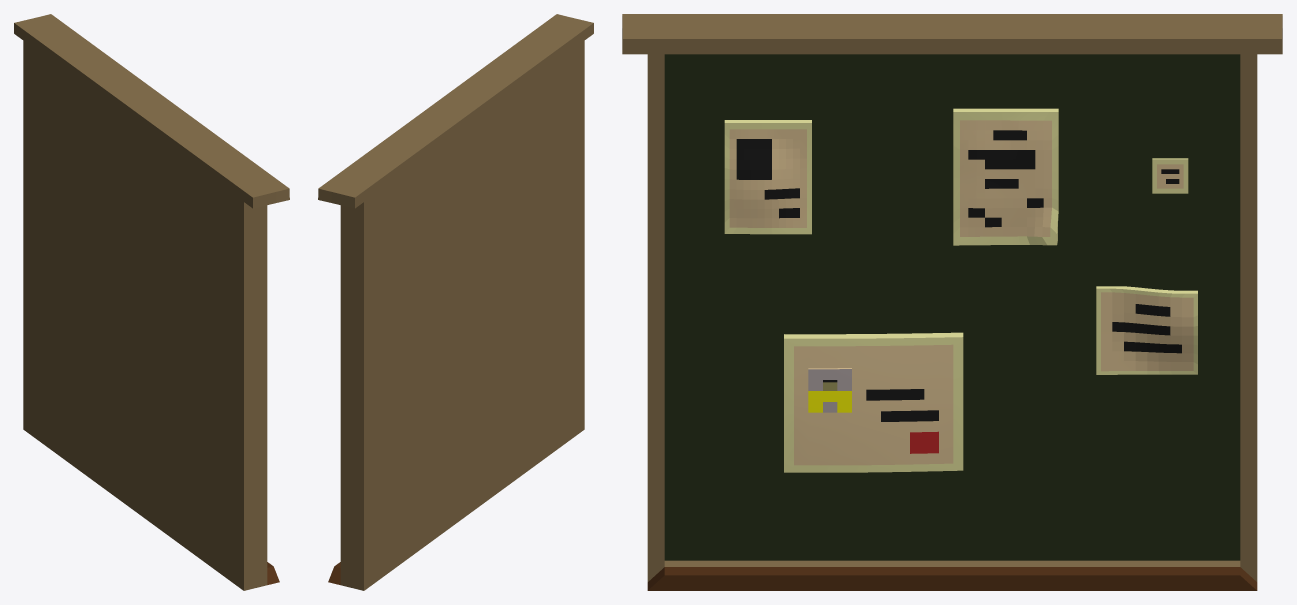
Rendered from Corkboard.fbx.
3 renders of one model, left to right at view 1: azimuth 30°, elevation 25°; view 2: azimuth 150°, elevation 25°; view 3: azimuth 270°, elevation 25°, orthographic. The views are drawn at different scales.
Visible parts, largest first — view 1: Corkboard; view 2: Corkboard; view 3: Corkboard.
Boxes of the visible parts, left/top/right/bottom form: Corkboard: left=14, top=14, right=289, bottom=590; Corkboard: left=318, top=14, right=593, bottom=590; Corkboard: left=622, top=14, right=1282, bottom=590.
Bounding box in the file's own units: 0.5564 × 5.77 × 6.25.
